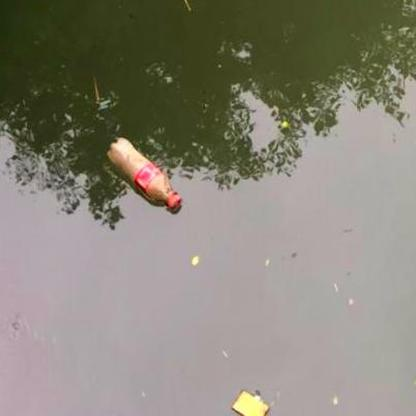plastic bottle: (107, 136, 183, 210)
